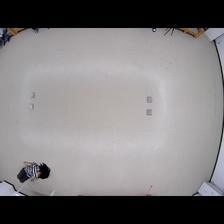fall: (16, 158, 51, 185)
